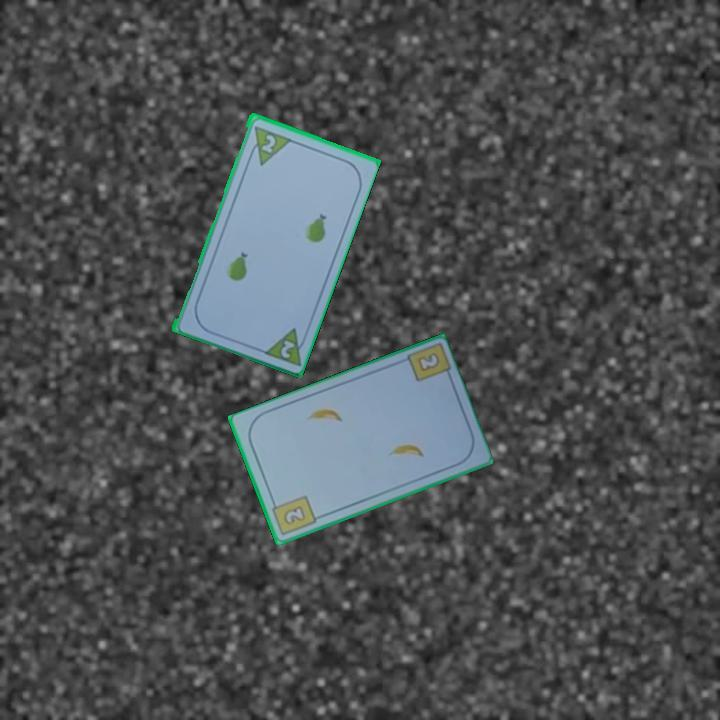2b: (268, 492, 319, 538), (414, 349, 442, 375)
2p: (277, 336, 297, 361), (258, 131, 278, 155)
